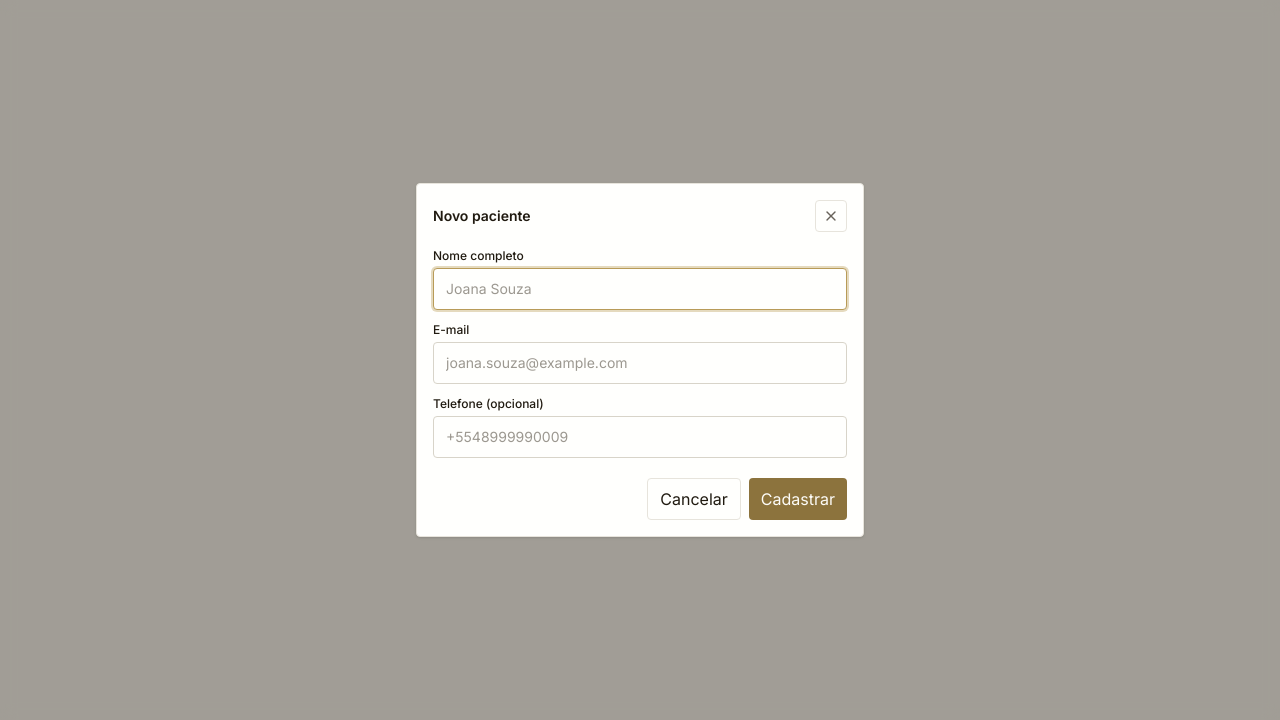
Test: CreatePatientModal › não envia o formulário com campos vazios
Click the button "Cadastrar" at (798, 499), box [749, 478, 847, 520]
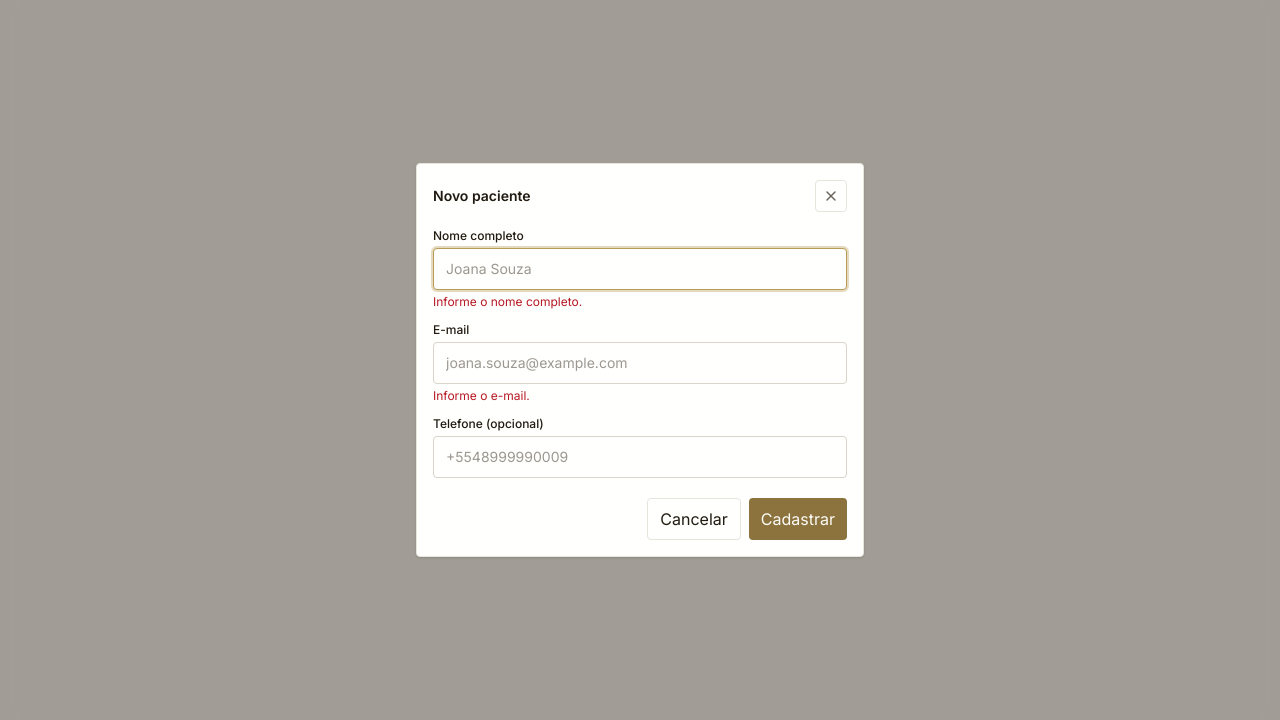
Check: the text "Informe o nome completo." is shown, box [433, 294, 582, 309]
Check: the text "Informe o e-mail." is shown, box [433, 388, 530, 403]
